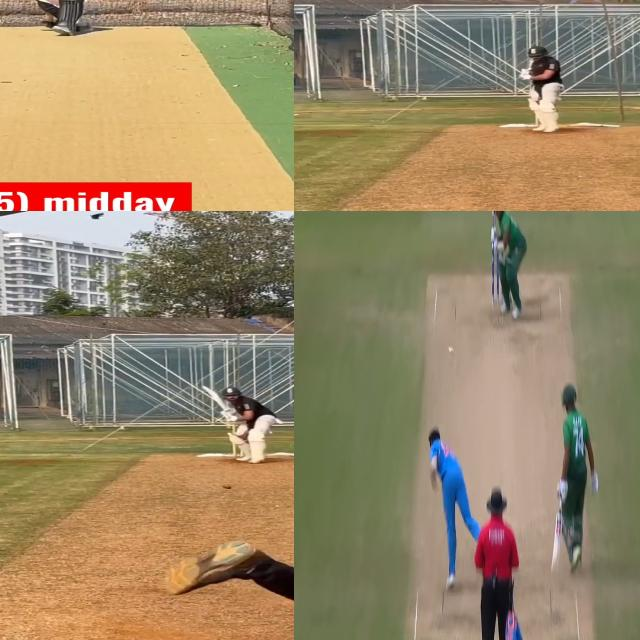Cricket ball: (448, 345, 454, 356), (222, 484, 232, 489)
